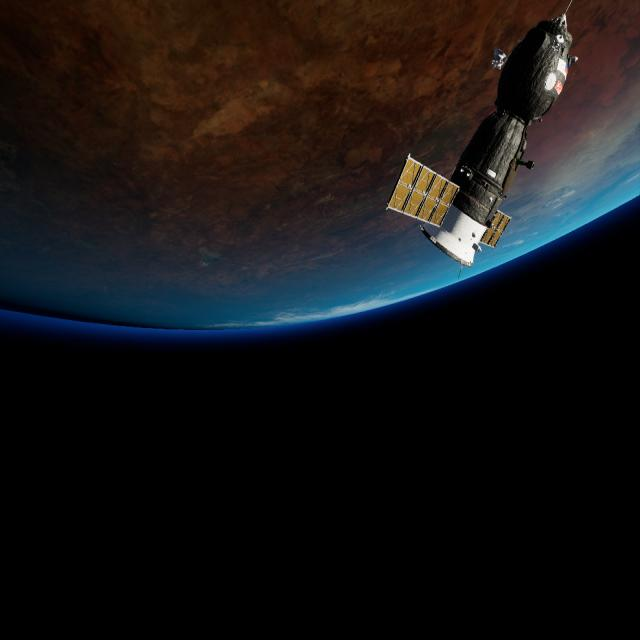Satellites revolving around earth: (384, 7, 580, 270)
